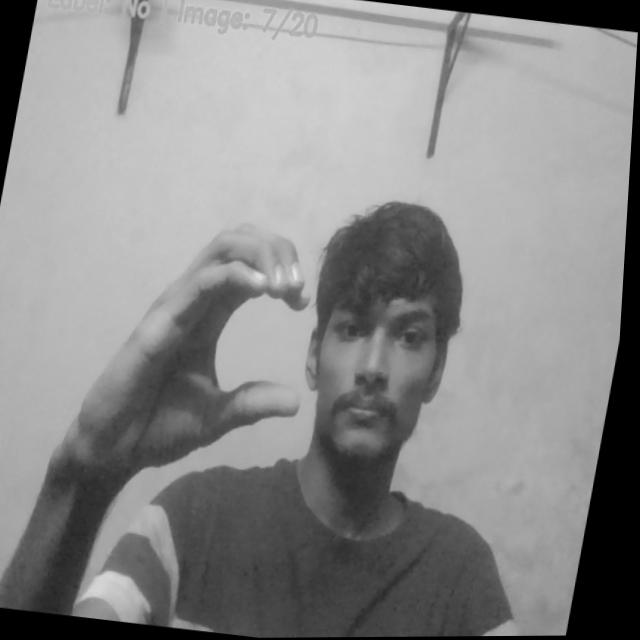No: (71, 212, 335, 505)
